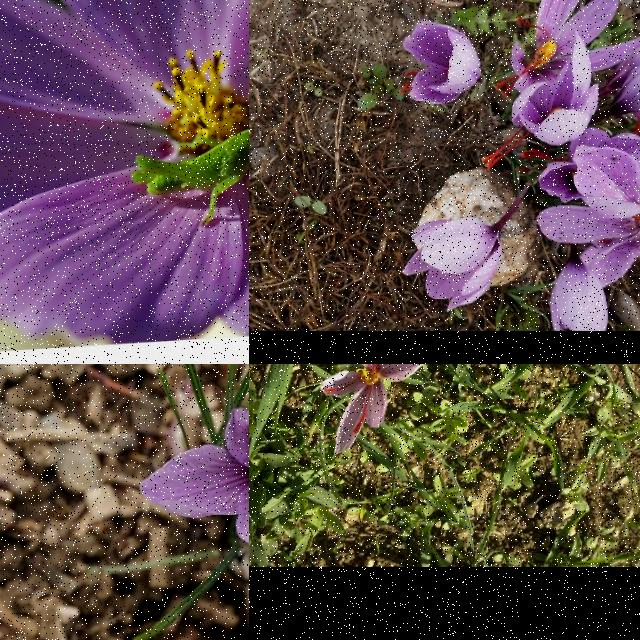flower: (140, 364, 249, 631), (535, 109, 640, 287), (479, 28, 599, 174), (321, 364, 432, 455), (400, 220, 504, 314), (399, 19, 483, 105), (549, 256, 609, 332)
overlap: (493, 0, 640, 287)
